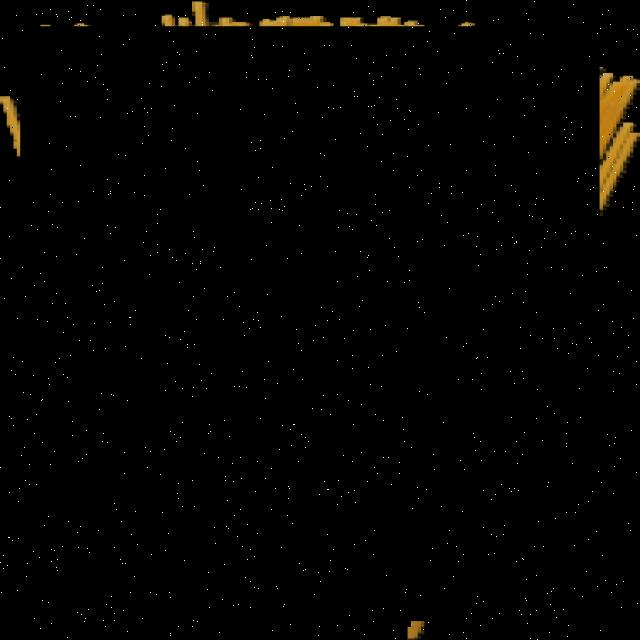Thukpa_Noodles: (22, 26, 602, 622)
